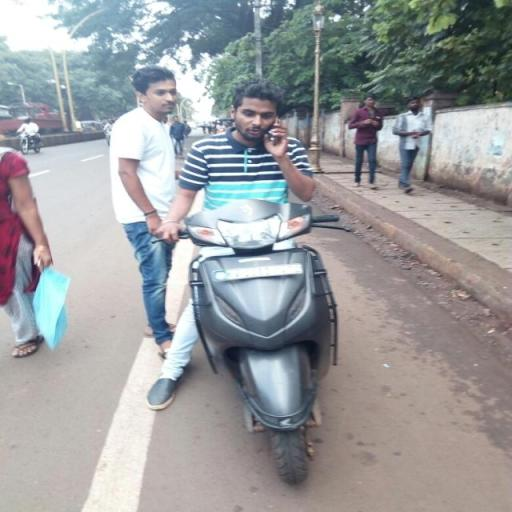using mobile: (266, 115, 288, 146)
